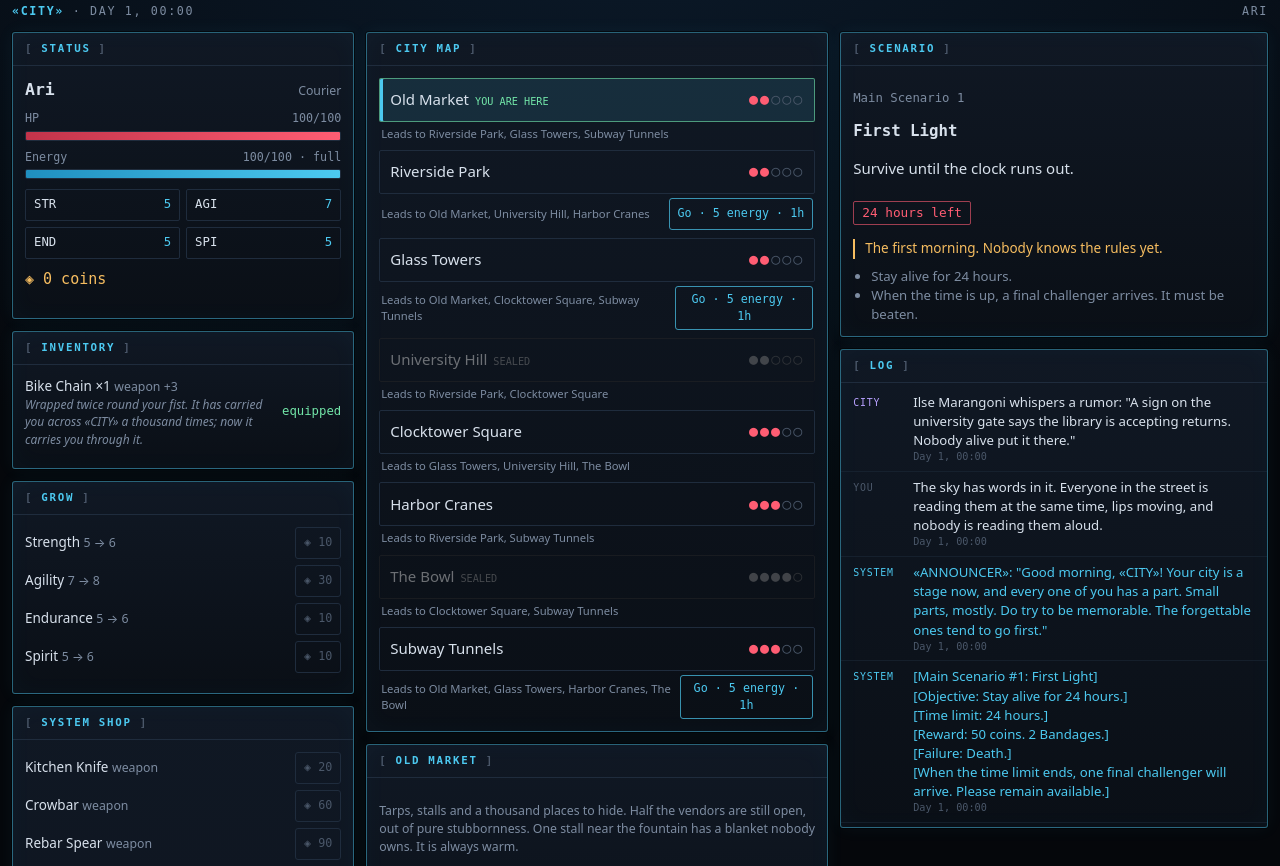
Test: a zone you are not in shows its actions as out of reach
Click the button "Glass Towers ●●○○○". click: [436, 259]
box: [379, 238, 815, 282]
(page scrolled)
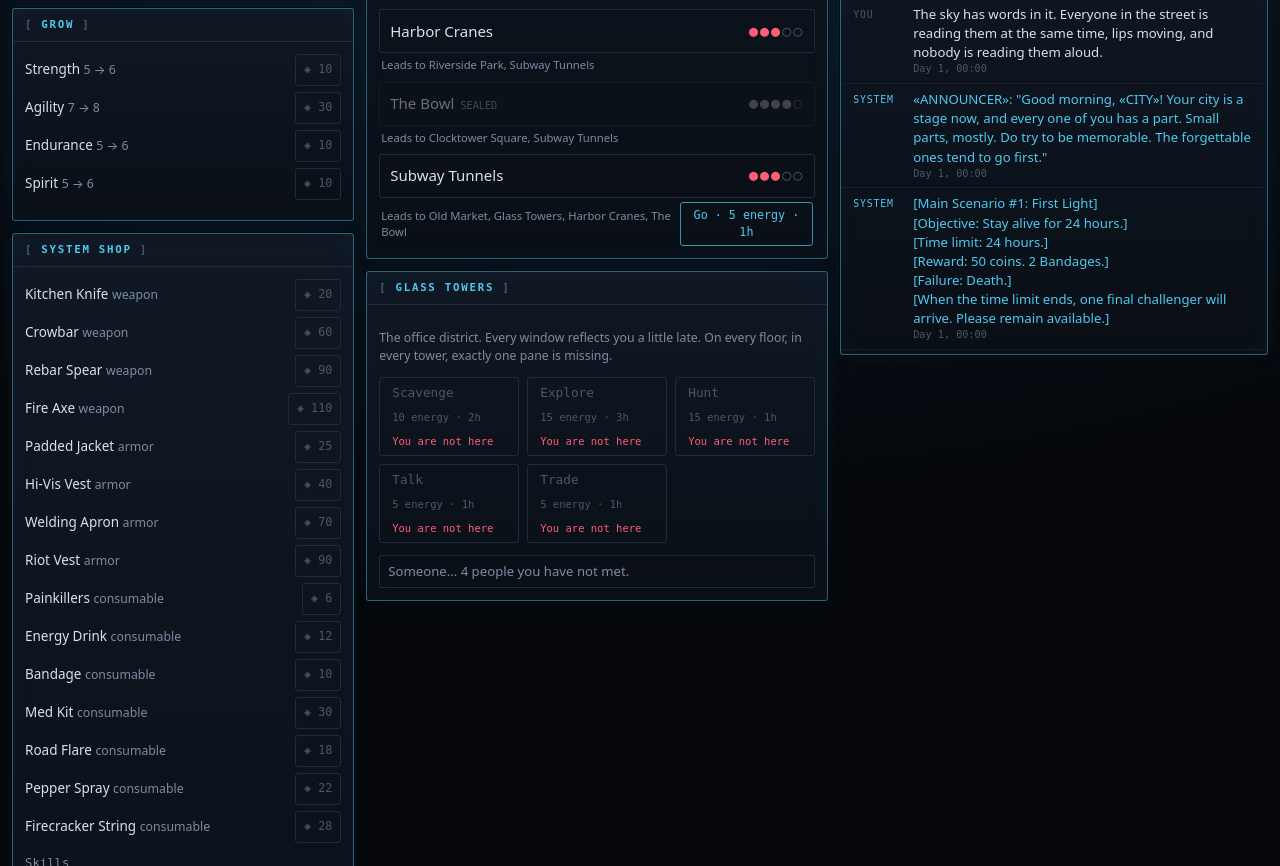
Expected: the button "Scavenge 10 energy · 2h You are not here" is disabled, [379, 377, 519, 456]
Expected: the 1st text "You are not here" is shown, [392, 434, 493, 449]
